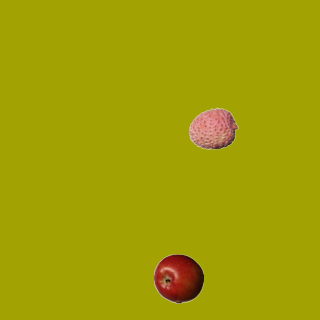Apple Braeburn: (153, 253, 203, 303)
Lychee: (188, 103, 238, 153)
